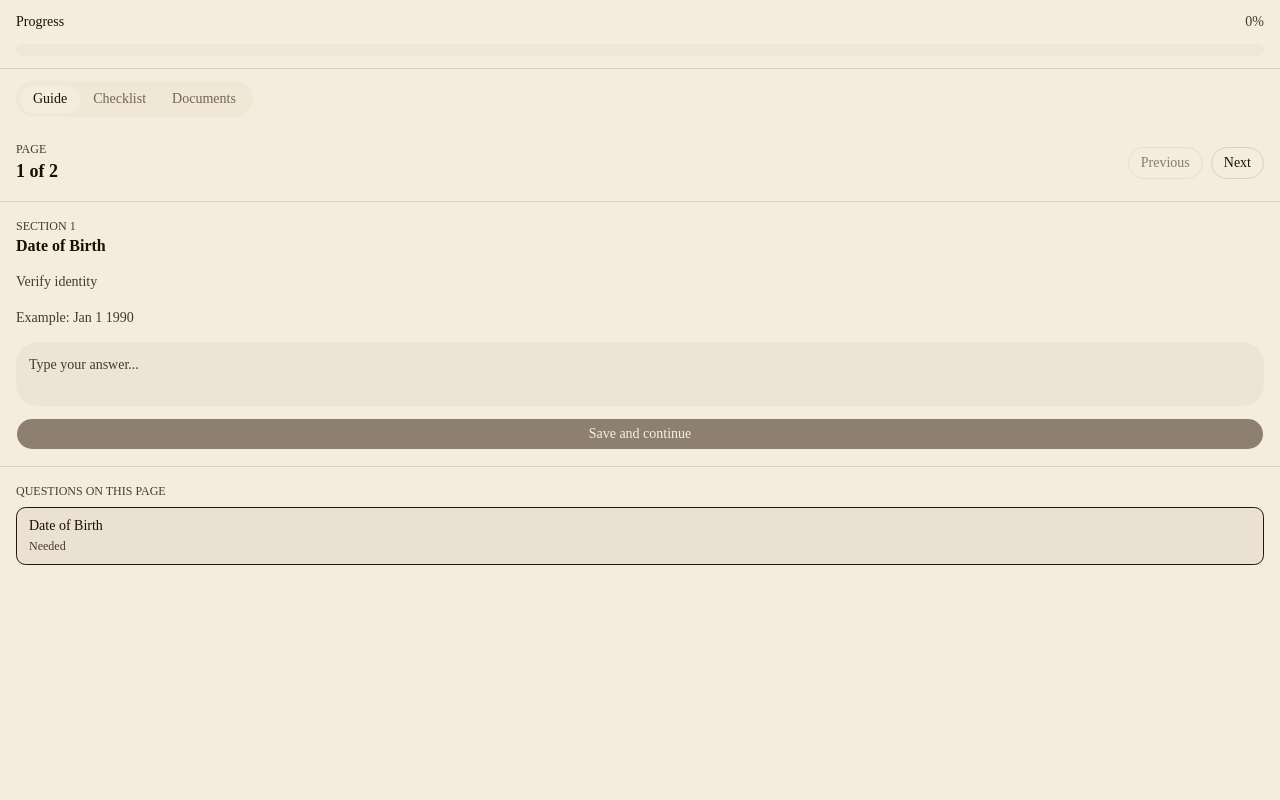
PanelContainer › renders the document checklist when Documents tab is clicked
Click the tab "Documents".
click(204, 99)  # box x1=159 y1=86 x2=249 y2=112
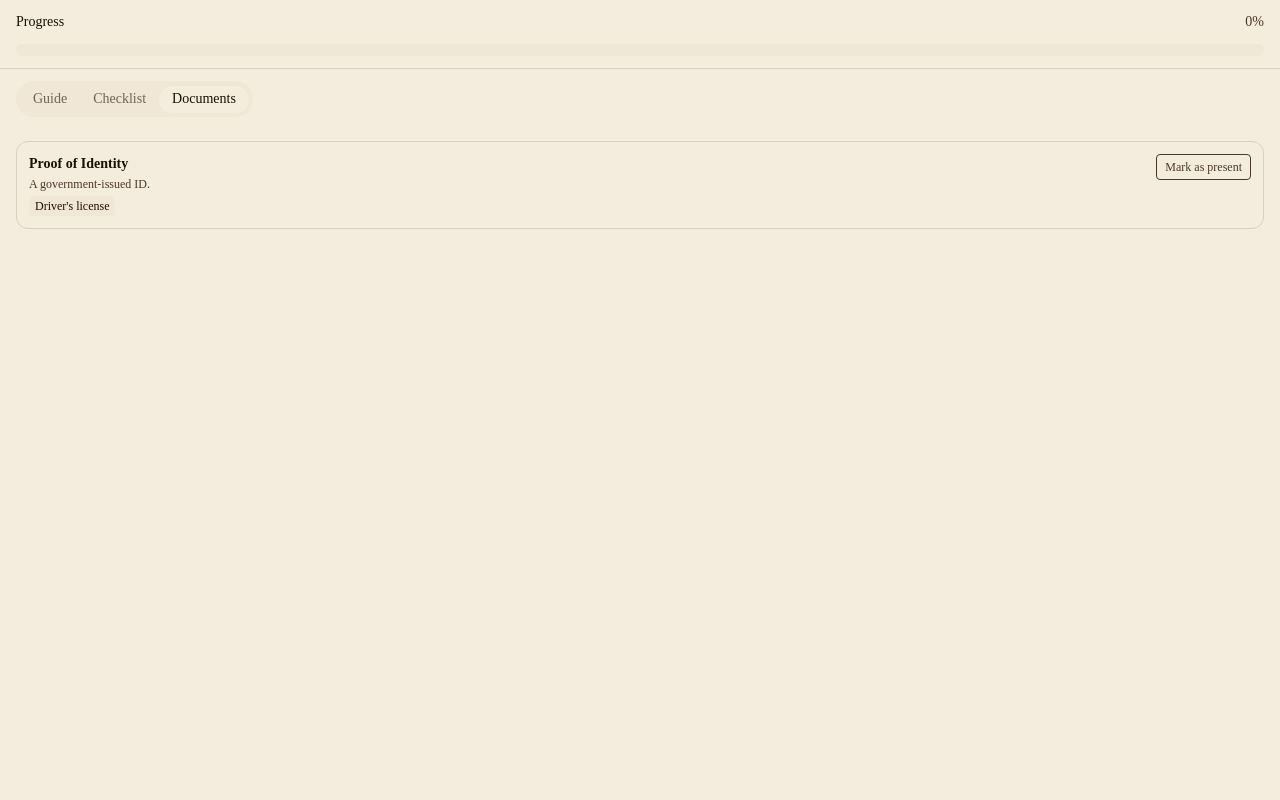
Result: the text "Proof of Identity" is shown at x1=29 y1=156 x2=128 y2=171
